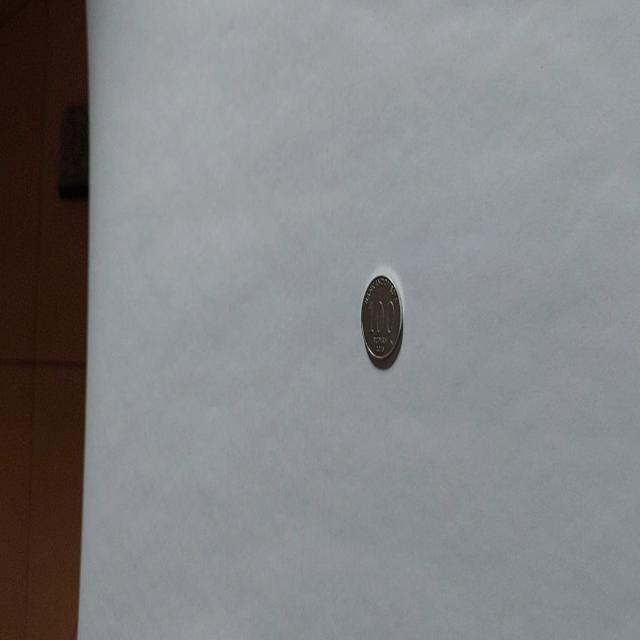seratus rupiah: (360, 273, 402, 369)
